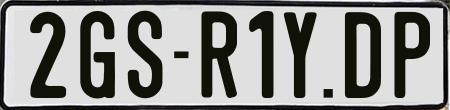1: (246, 11, 276, 102)
2: (28, 9, 65, 96)
D: (342, 11, 378, 101)
G: (77, 10, 113, 100)
P: (391, 9, 432, 98)
R: (201, 9, 243, 102)
S: (125, 10, 163, 102)
Y: (281, 10, 314, 101)
